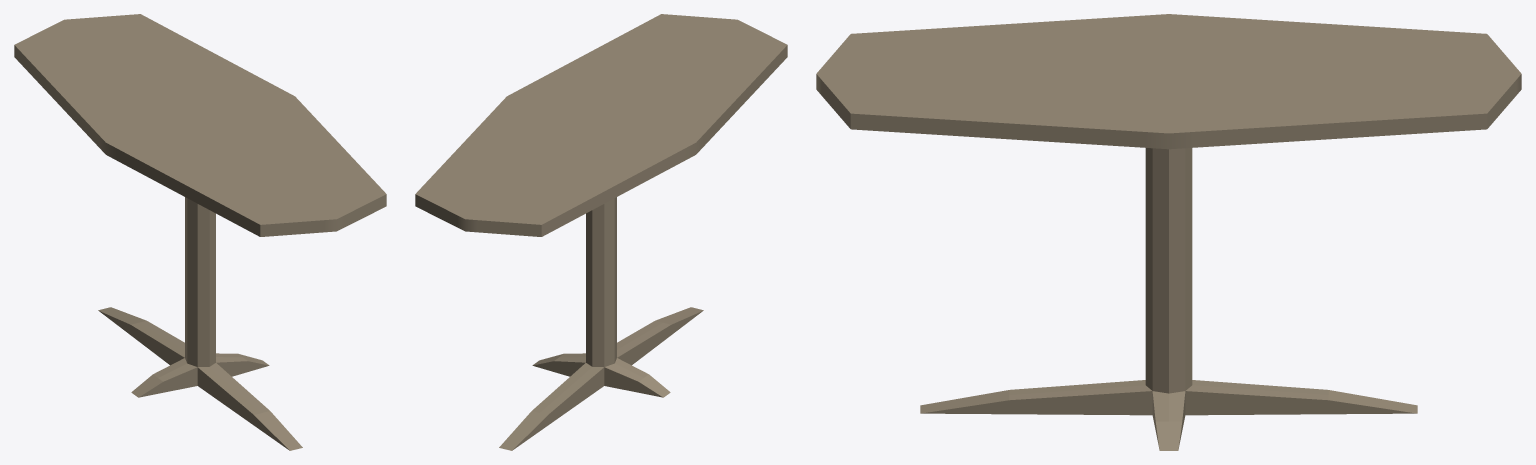
File: table.fbx
The picture shows the model from 3 angles, left to right: view 1: azimuth 30°, elevation 25°; view 2: azimuth 150°, elevation 25°; view 3: azimuth 270°, elevation 25°; orthographic projection. The views are drawn at different scales.
Visible parts, largest first — view 1: table; view 2: table; view 3: table.
Boxes of the visible parts, x1=… form: table: x1=14, y1=14, x2=386, y2=450; table: x1=415, y1=14, x2=787, y2=450; table: x1=816, y1=14, x2=1521, y2=450.
Size of the model in its own units: 61.07 by 80.03 by 152.
